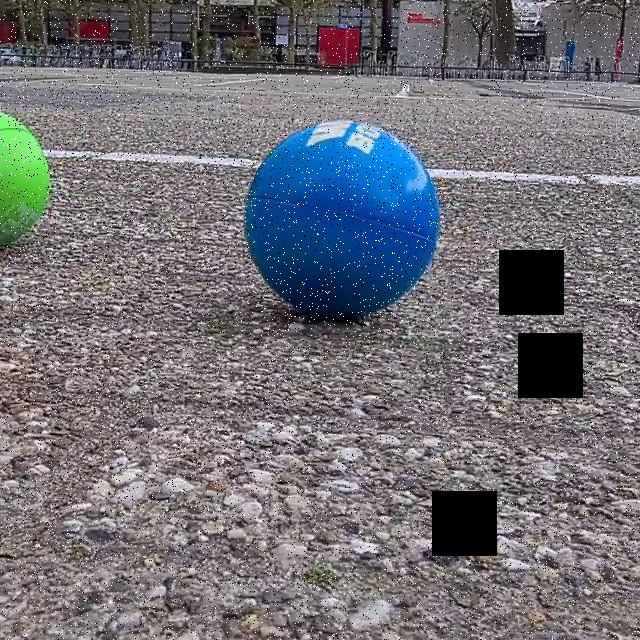ball: (240, 114, 444, 323)
